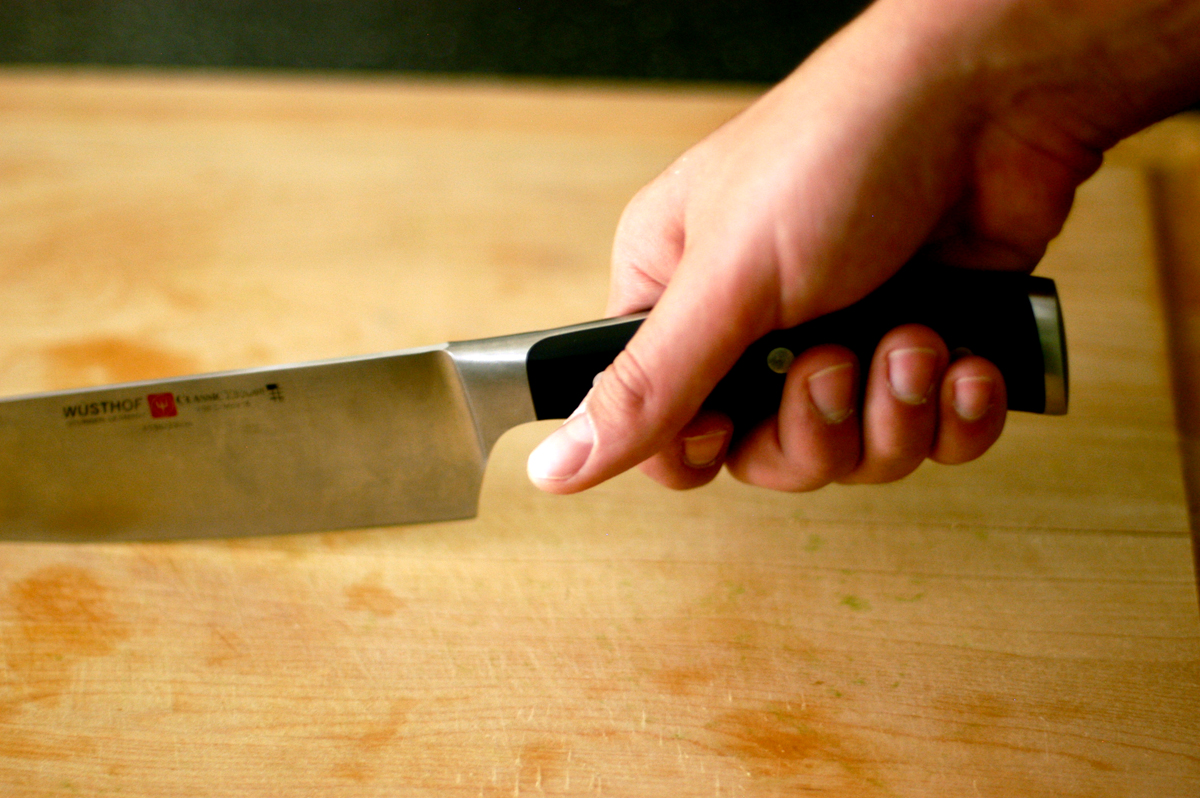knife: (0, 262, 1080, 551)
